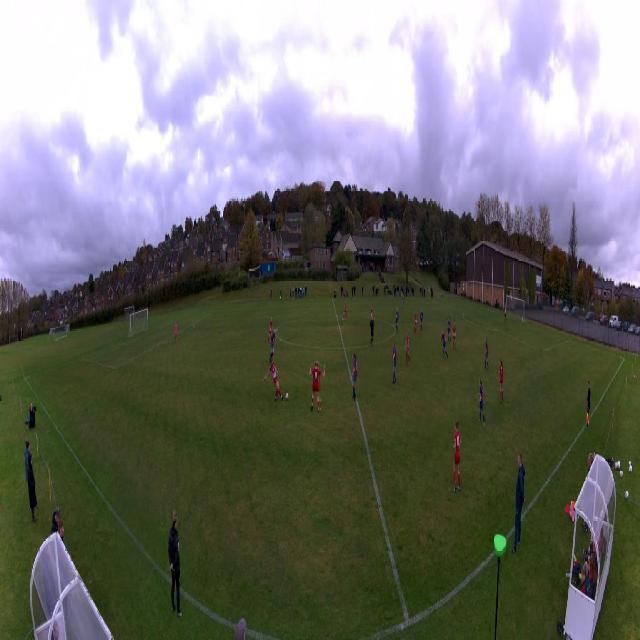ball: (285, 393, 289, 400)
player: (264, 357, 284, 402), (309, 359, 325, 411), (452, 421, 462, 492), (477, 379, 486, 427), (498, 359, 505, 405), (352, 353, 358, 399), (269, 328, 276, 362), (440, 331, 448, 360), (392, 340, 397, 384), (369, 317, 375, 346), (267, 318, 273, 344), (405, 332, 410, 363), (484, 337, 488, 369), (447, 317, 451, 345), (395, 307, 399, 334), (452, 323, 456, 349), (342, 302, 347, 321), (414, 311, 418, 333), (420, 309, 423, 331), (370, 303, 374, 319), (174, 321, 177, 342), (402, 295, 405, 312), (504, 307, 506, 324)
